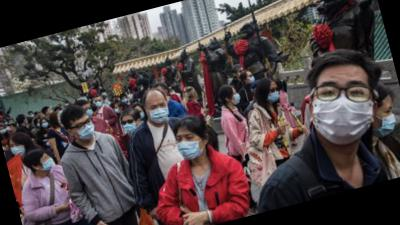mask_weared_incorrect: (170, 90, 176, 96)
with_mask: (304, 69, 384, 152), (174, 128, 206, 163), (370, 105, 400, 139), (145, 99, 173, 126), (71, 116, 97, 143), (121, 115, 139, 134), (9, 140, 27, 158), (265, 85, 282, 104), (39, 154, 54, 171), (230, 88, 243, 105), (83, 105, 95, 119), (135, 107, 146, 121), (246, 72, 256, 84), (93, 97, 103, 108), (40, 120, 50, 129), (113, 105, 122, 114), (122, 96, 128, 103)
